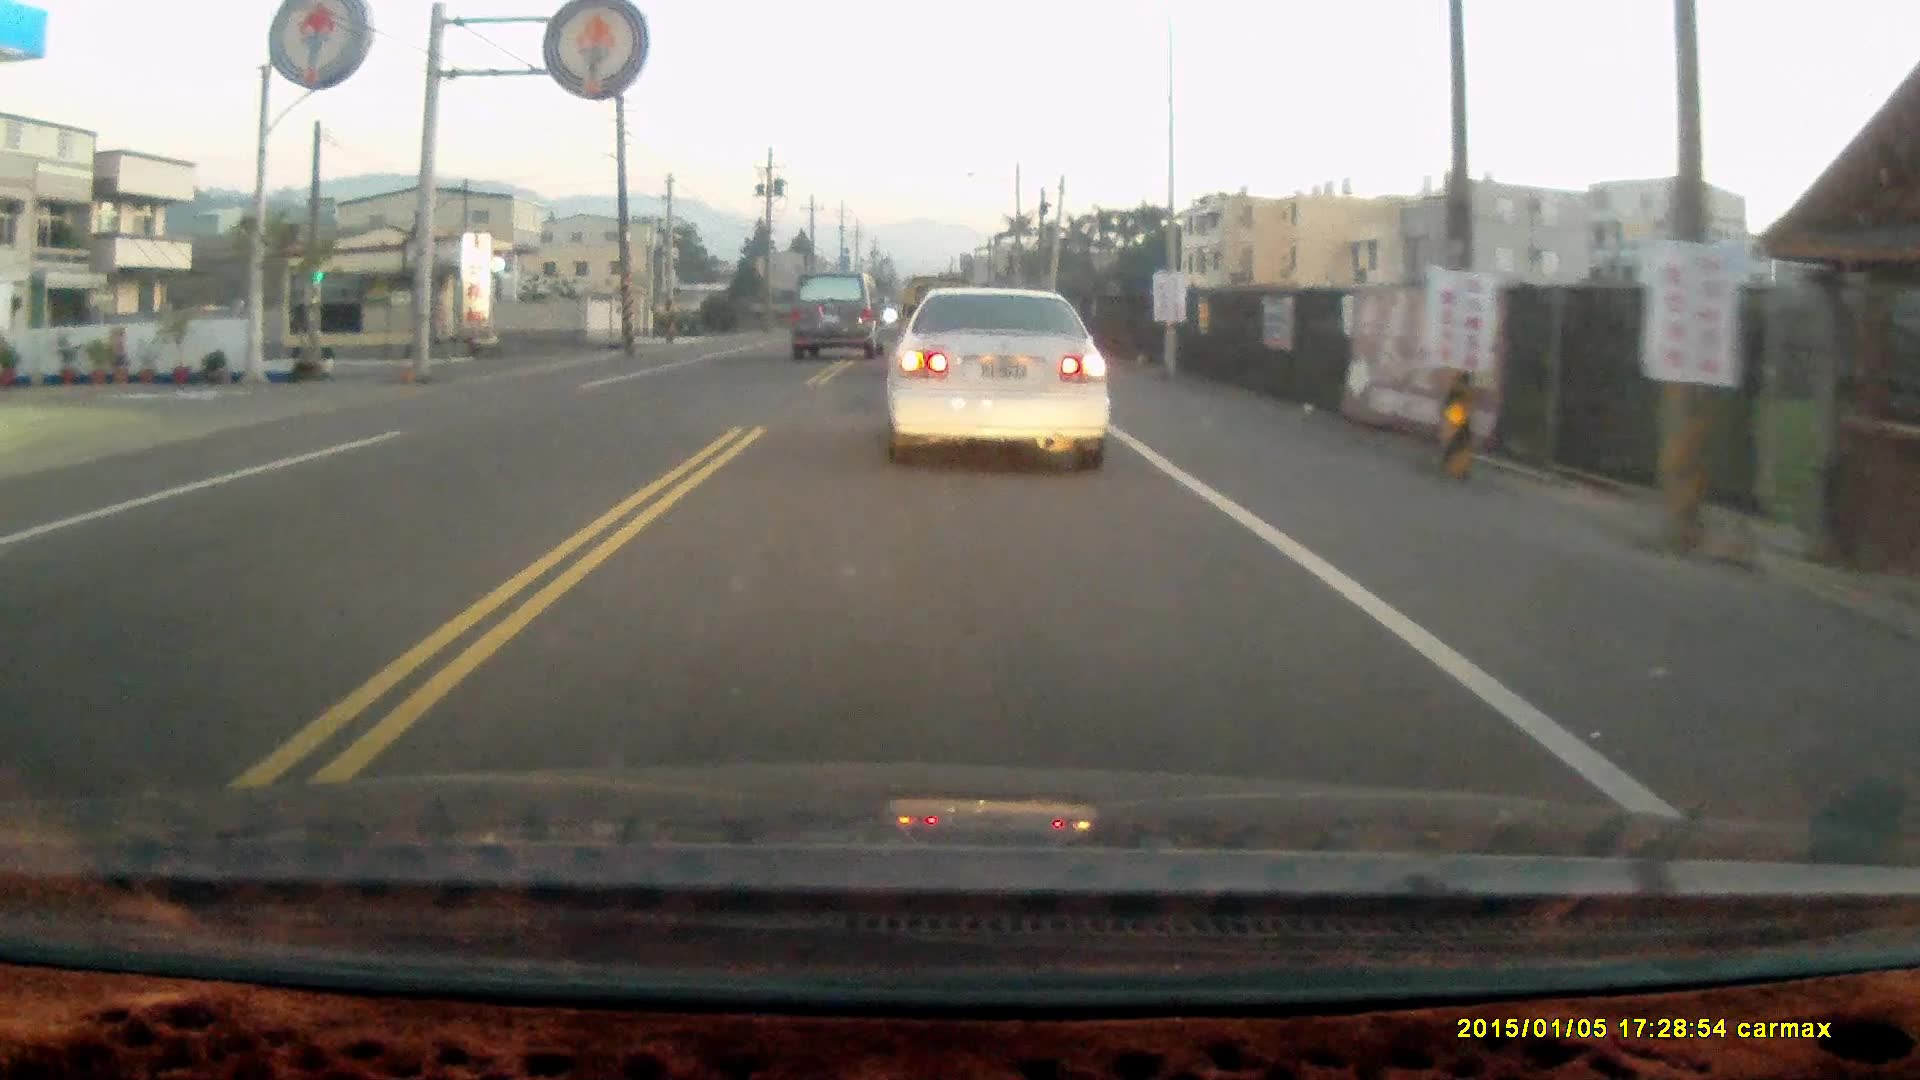vehicle: (881, 287, 1120, 477), (782, 272, 890, 367)
